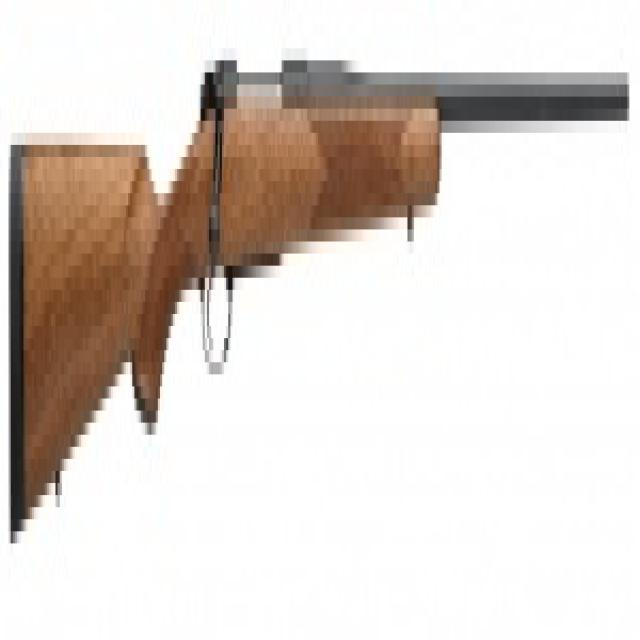rifle: (7, 29, 631, 547)
